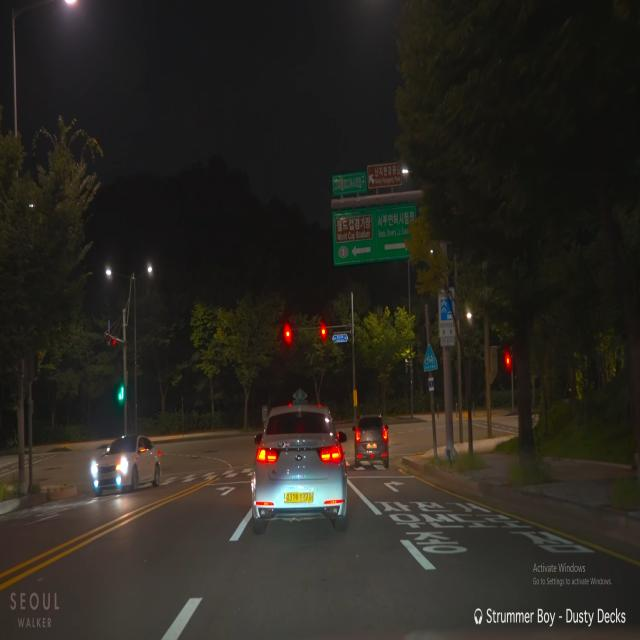headlights: (87, 453, 130, 493)
